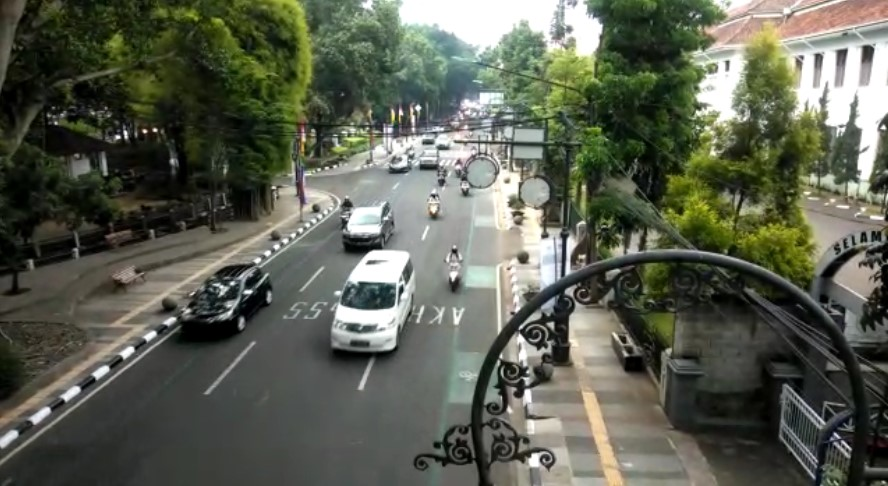mobil: (325, 249, 419, 354), (175, 263, 275, 338), (345, 200, 396, 249)
motor: (443, 243, 466, 297), (423, 189, 446, 218)
